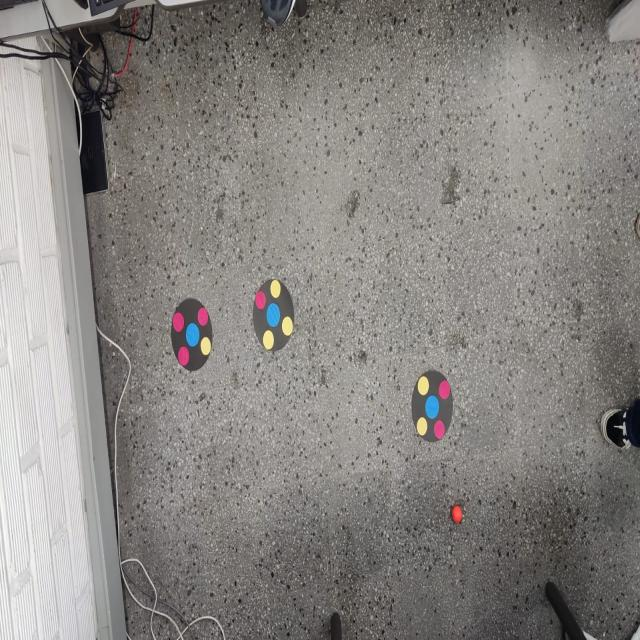0: (170, 295, 214, 372)
1: (413, 368, 454, 443)
2: (253, 277, 295, 352)
Ball: (452, 502, 464, 526)
